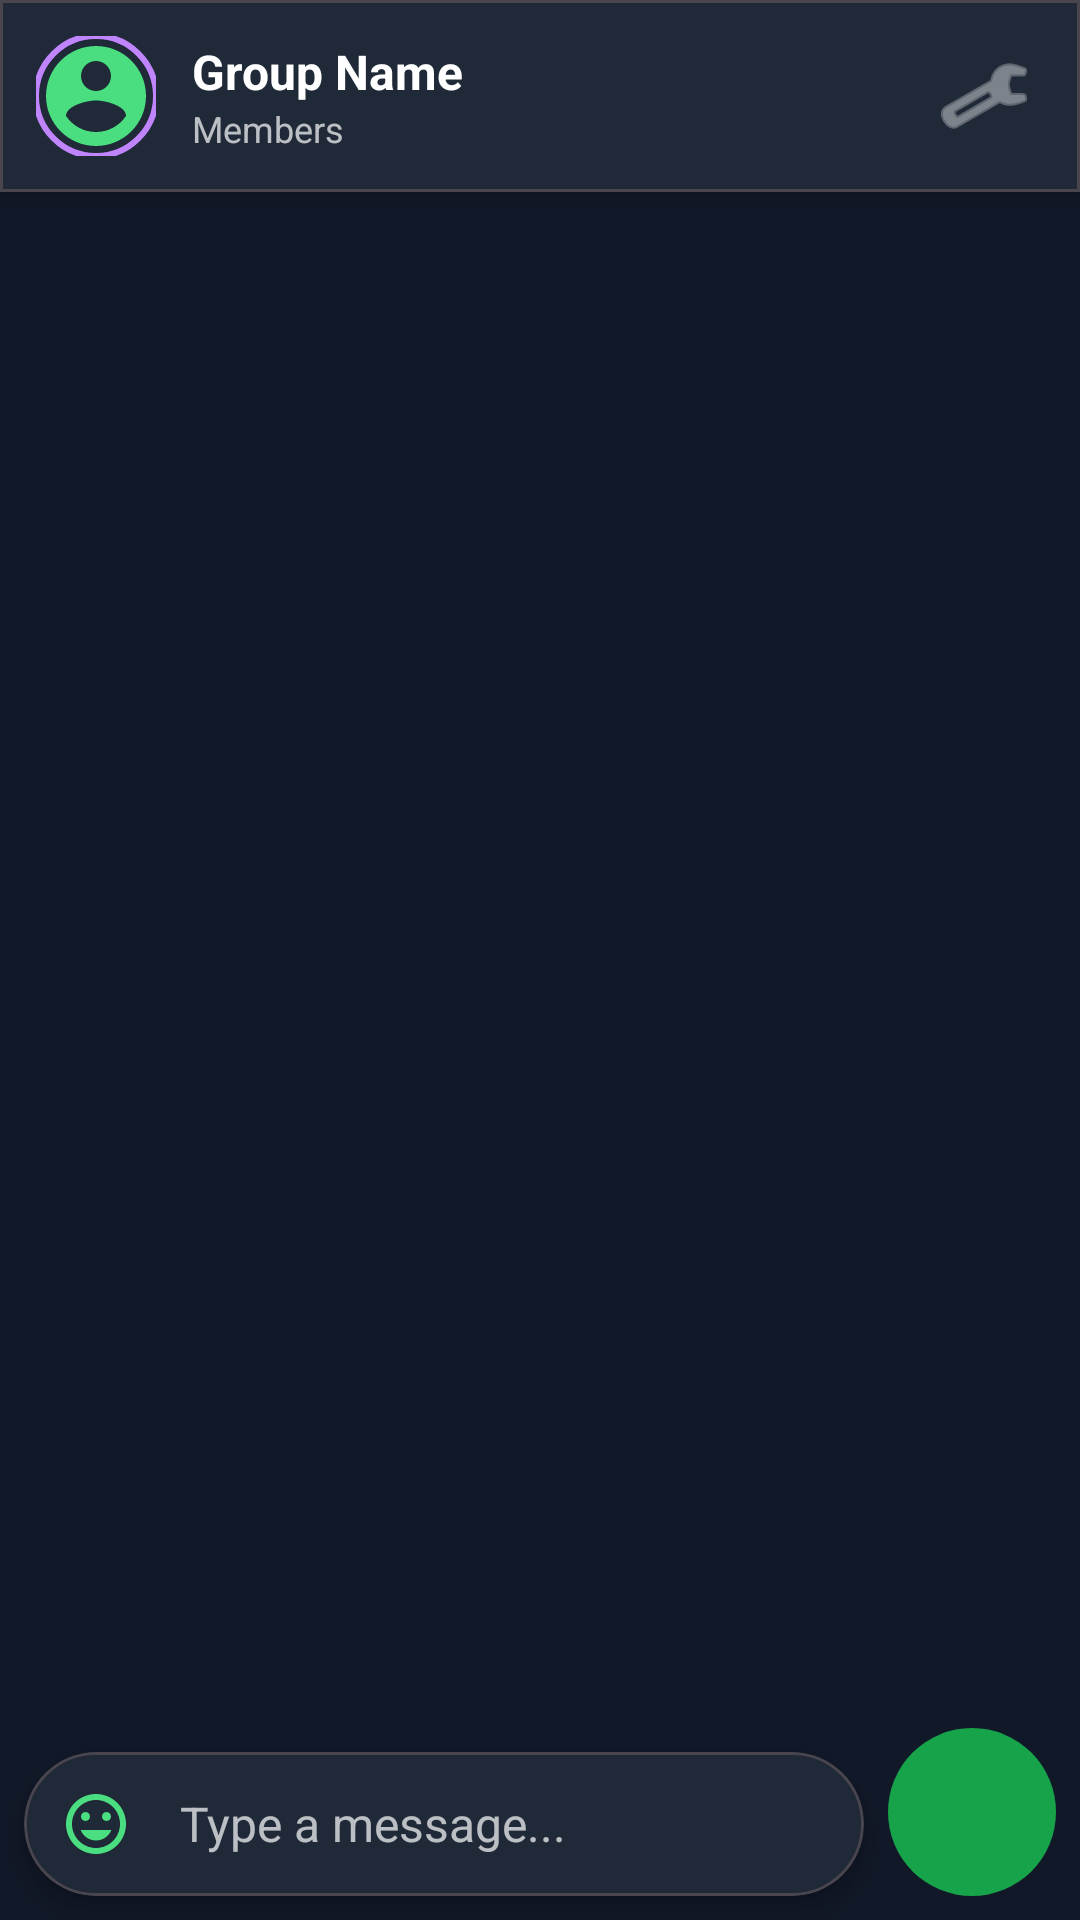

Named icons in this screenshot (1080px x 1920px) and their bounding boxes, (x1, y1, x2, y2):
emoji: (66, 1794, 126, 1854)
manage: (941, 63, 1027, 129)
